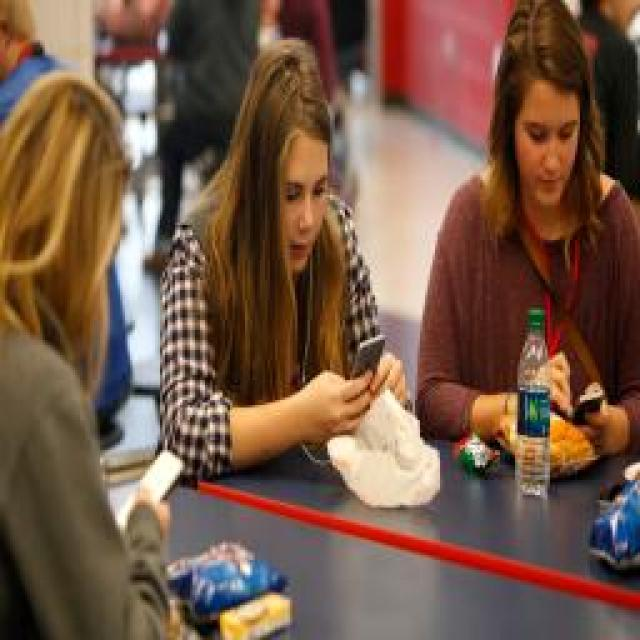phone: (160, 28, 402, 472), (417, 4, 640, 477), (0, 70, 185, 640)
